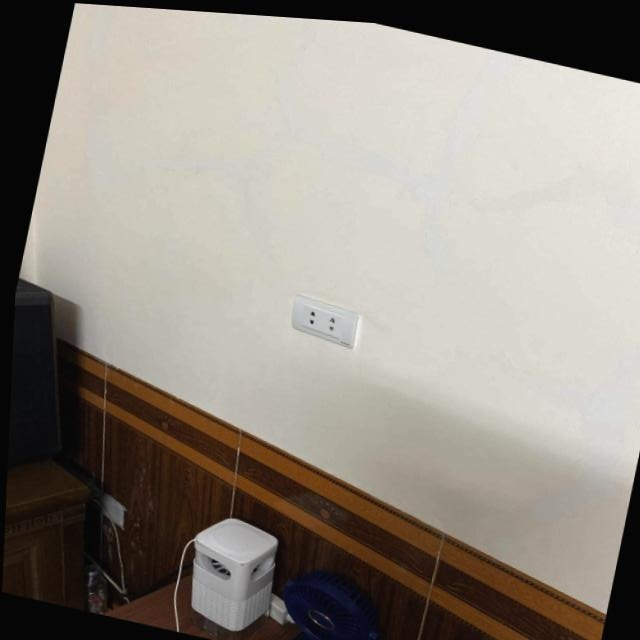outlet: (286, 294, 362, 350)
